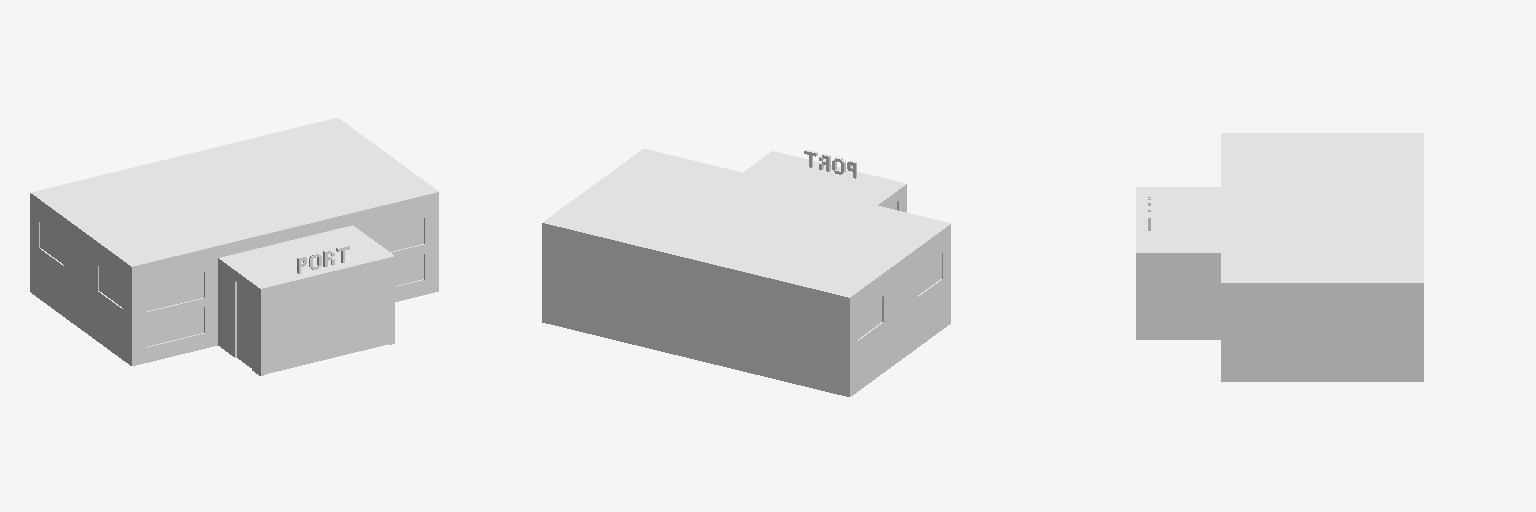
Rendered from Port(1).obj.
3 renders of one model, left to right at view 1: azimuth 30°, elevation 25°; view 2: azimuth 150°, elevation 25°; view 3: azimuth 270°, elevation 25°, orthographic.
Visible parts, largest first — view 1: object 1; view 2: object 1; view 3: object 1.
Boxes of the visible parts, x1,y1,x2,y2 form: object 1: [30, 118, 438, 375]; object 1: [542, 149, 950, 396]; object 1: [1136, 133, 1423, 381].
Size of the model in its own units: 21 by 6.7 by 17.